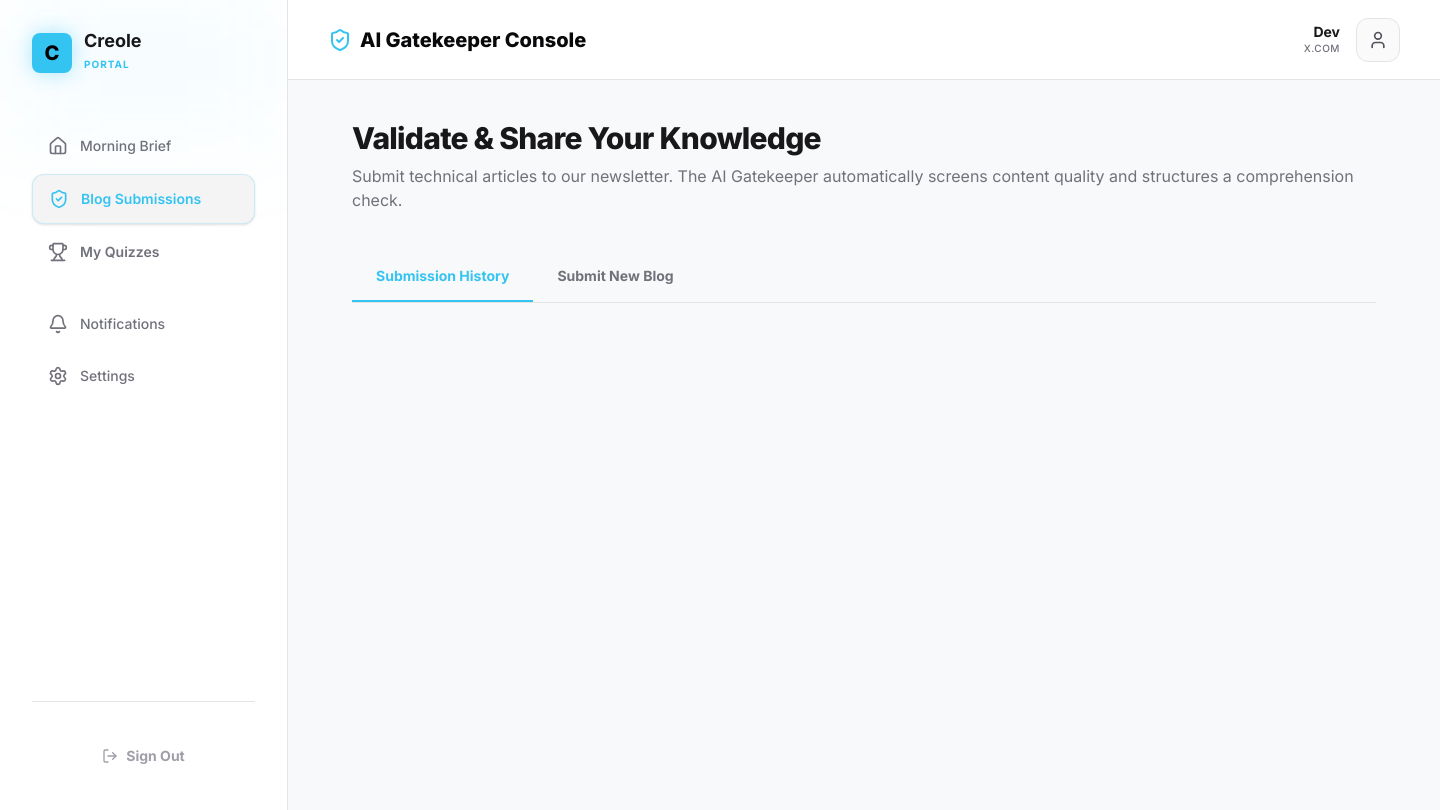
GatekeeperPage › switches to the submit-new-blog tab and shows the form
The width and height of the screenshot is (1440, 810).
Click the button "Submit New Blog" at point(616, 277), box [533,252,698,302]
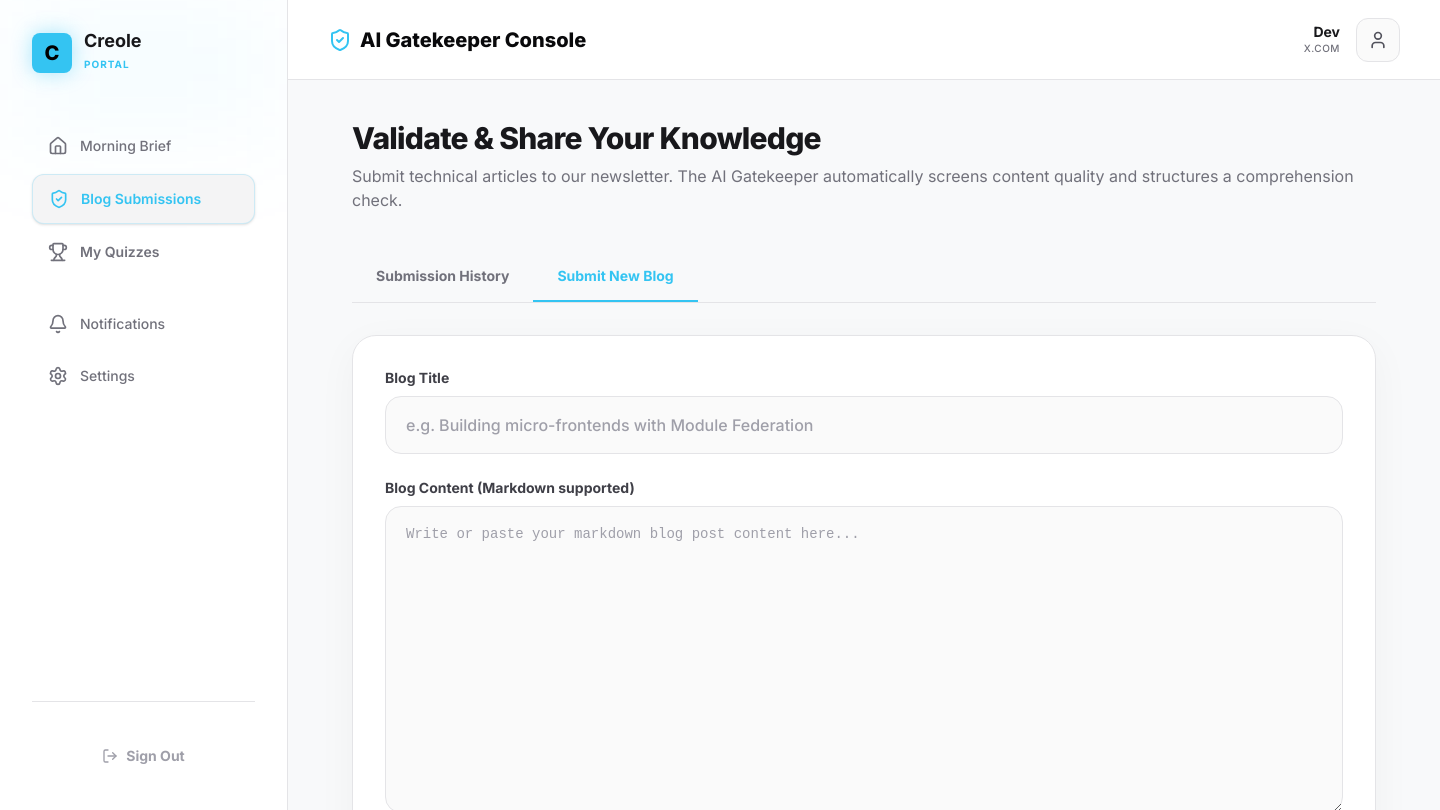
Check: the field with placeholder "e.g. Building micro-frontends with Module Federation" is shown, box [385,396,1343,454]
